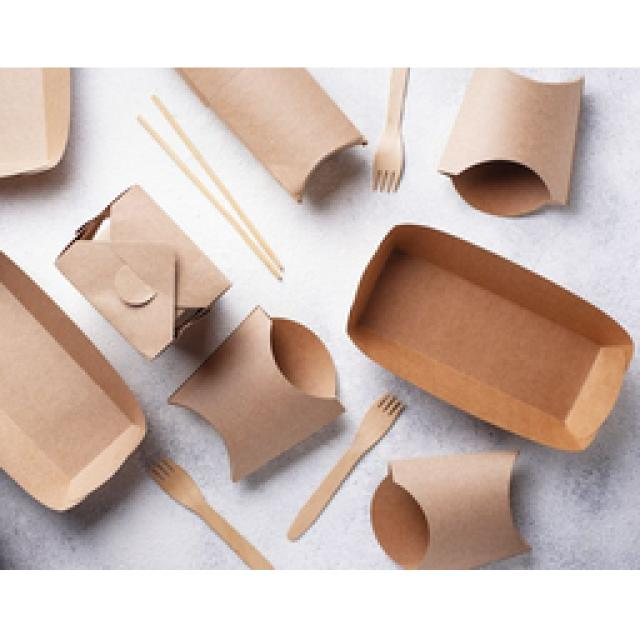cardboard: (350, 225, 628, 448), (0, 252, 145, 510), (55, 185, 228, 358), (170, 308, 340, 478), (178, 68, 365, 198), (438, 68, 580, 212), (370, 452, 528, 568), (0, 68, 68, 178), (372, 68, 408, 190)
